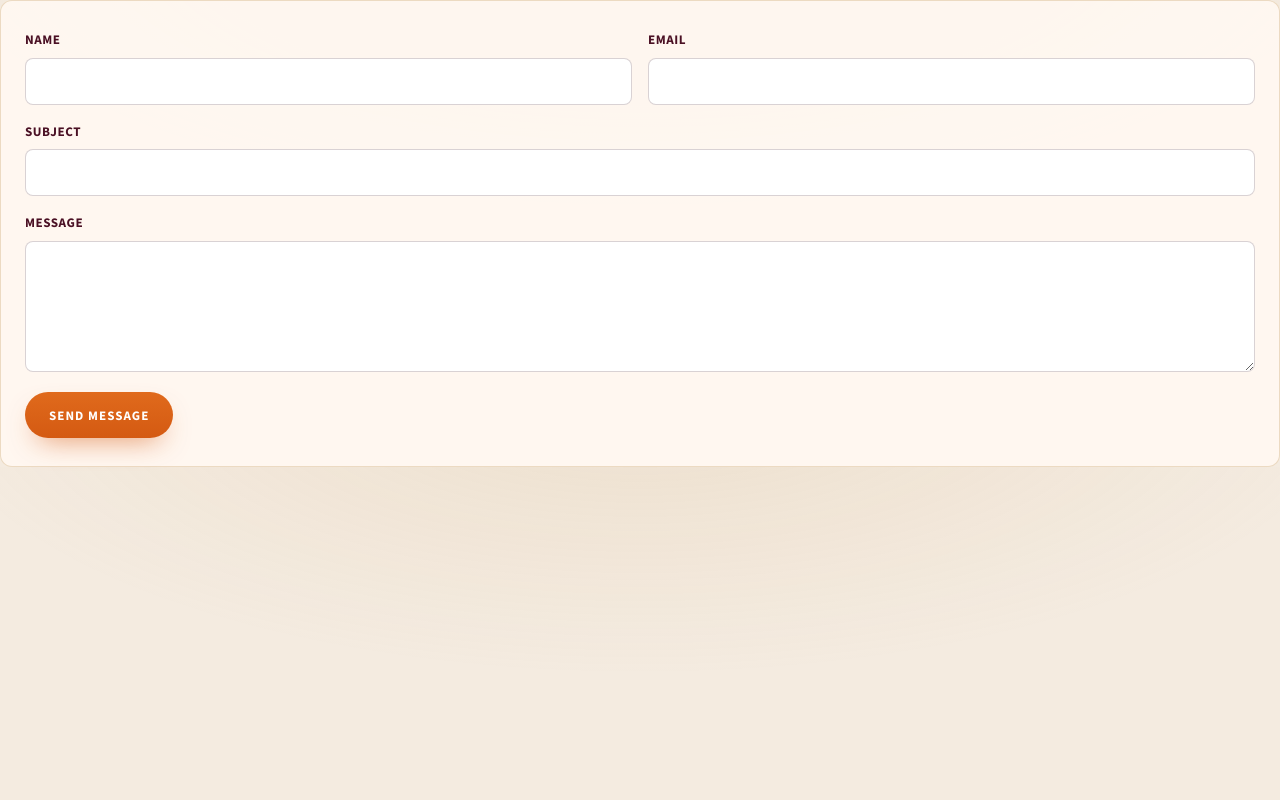
Scenario: ContactForm › opens a mailto link with the form contents
Type "Ayesha Khan" into the field labelled "Name".
click(328, 81); type("Ayesha Khan")  # box [25,58,632,105]
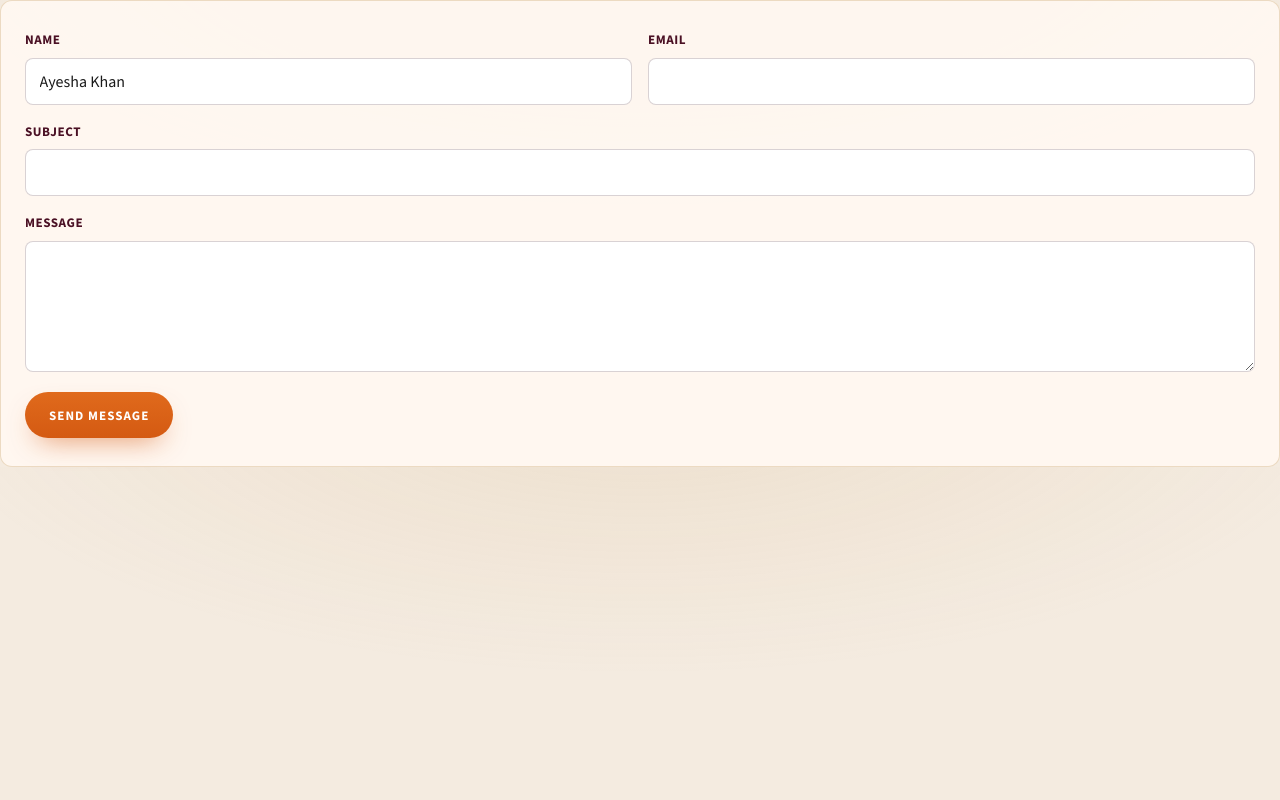
Type "ayesha@example.com" into the field labelled "Email".
click(952, 81); type("ayesha@example.com")  # box [648,58,1255,105]
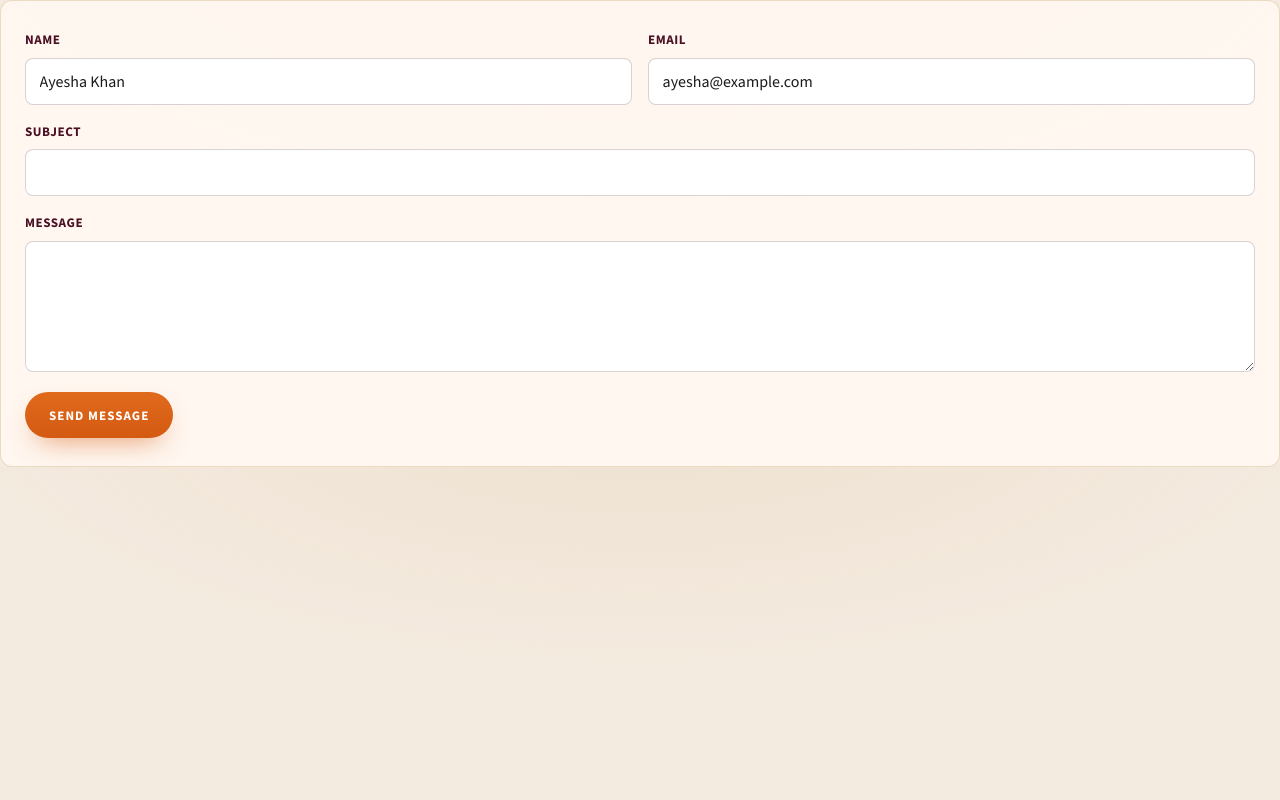
Type "Registration query" into the field labelled "Subject".
click(640, 173); type("Registration query")  # box [25,149,1255,196]
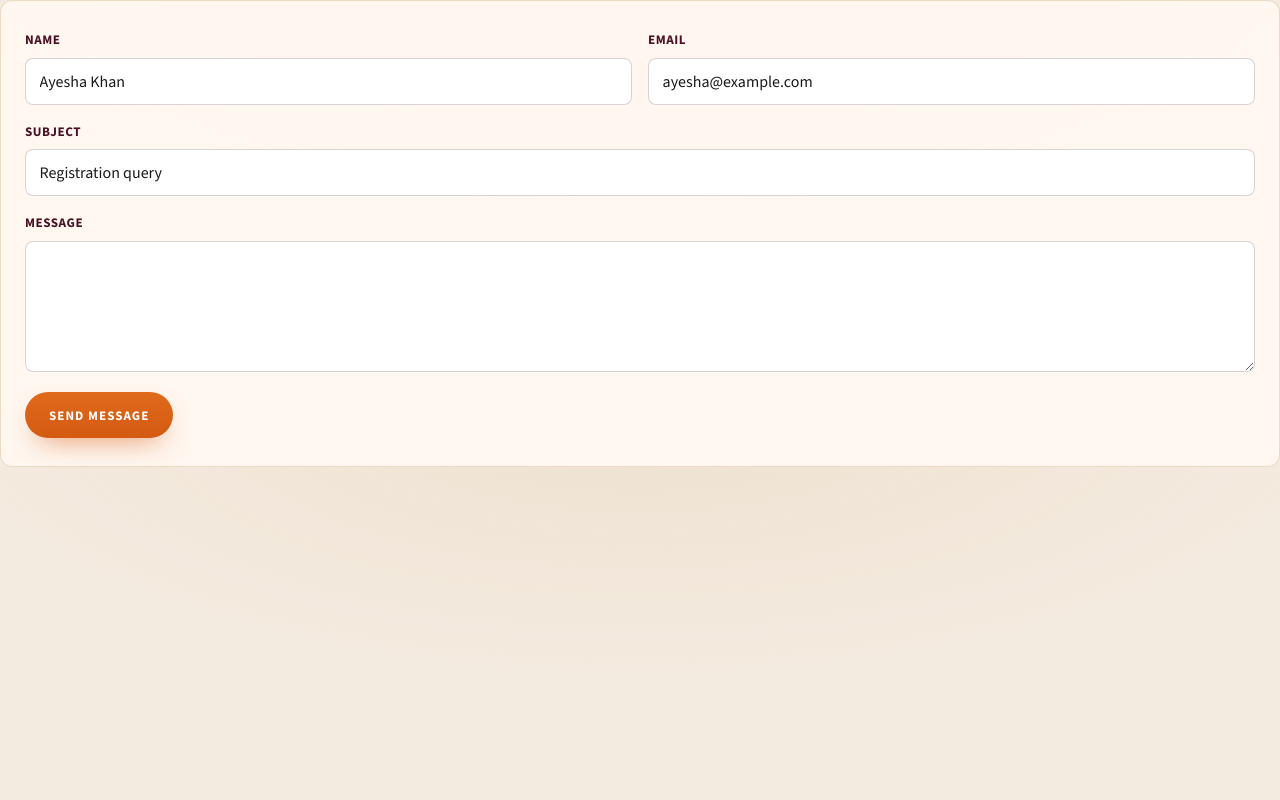
Type "Please confirm the fee." into the text box labelled "Message".
click(640, 307); type("Please confirm the fee.")  # box [25,241,1255,372]
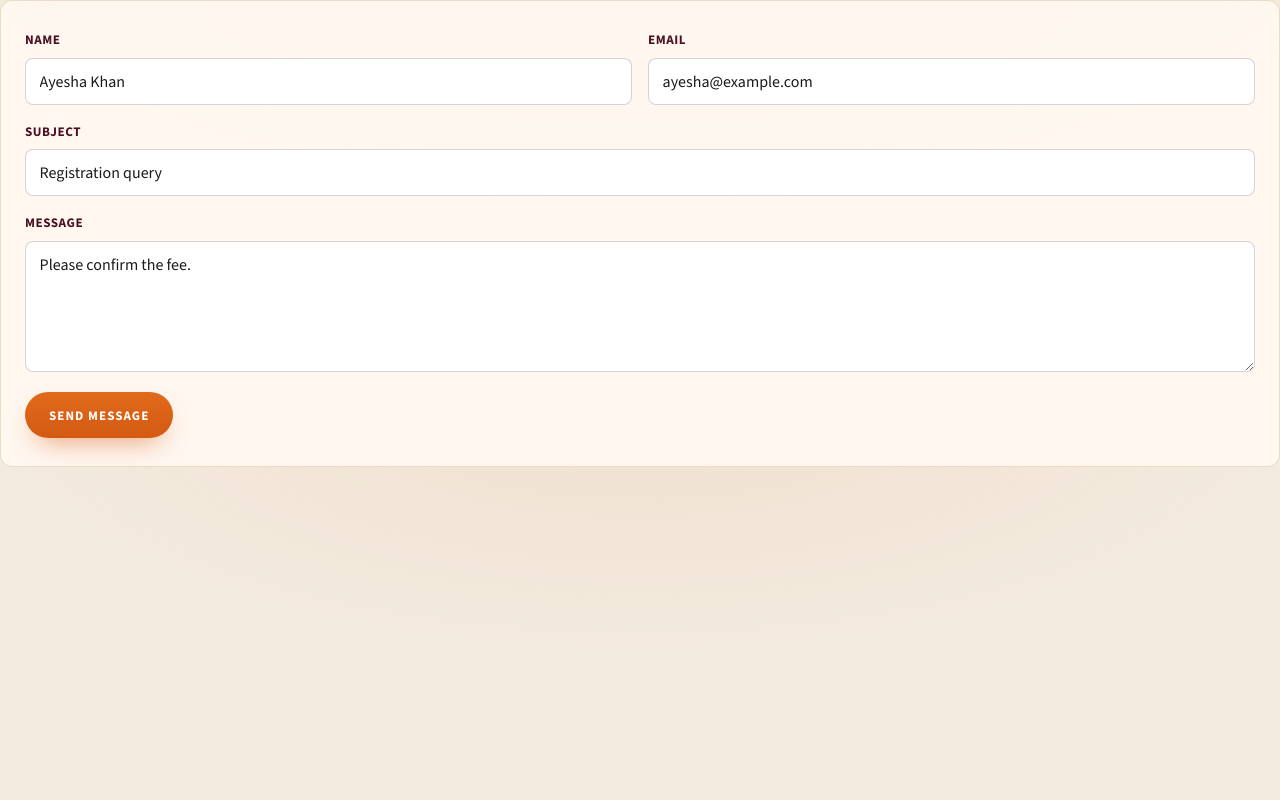
Submit the form "Send message", box [0,0,1279,467]
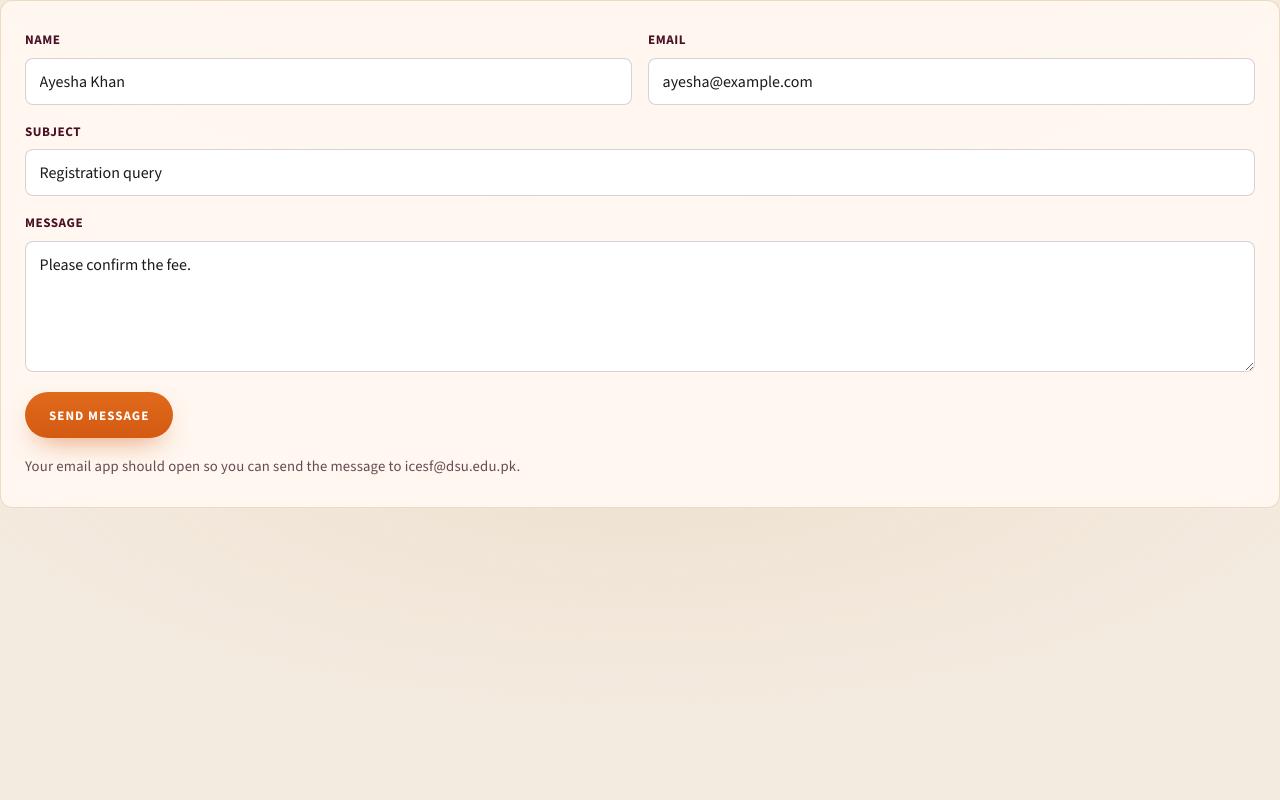
expect the text "Your email app should open" is shown: met, box [25,456,405,476]
